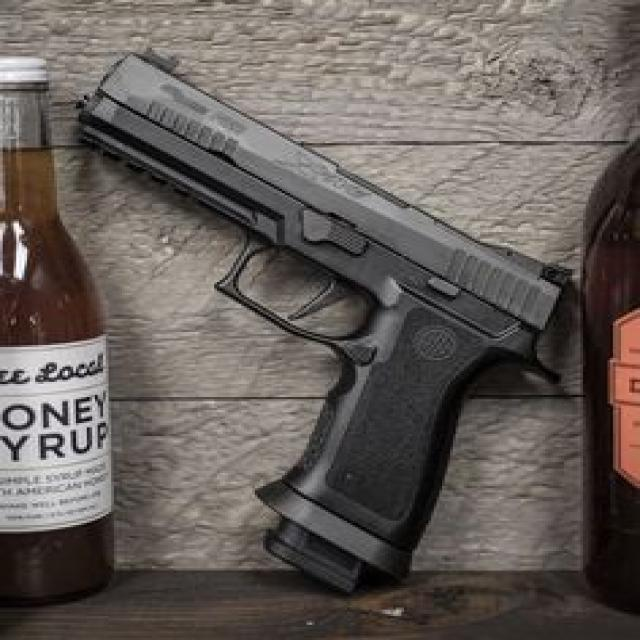semi automatic: (76, 41, 594, 582)
